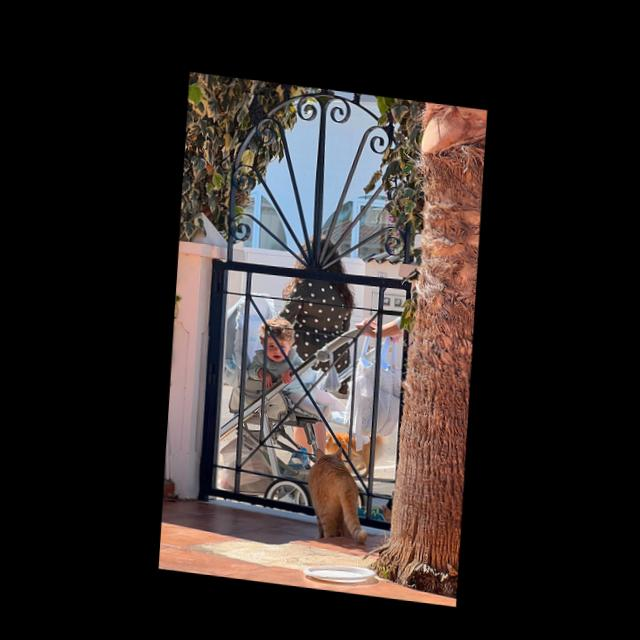animals: (302, 444, 374, 542)
